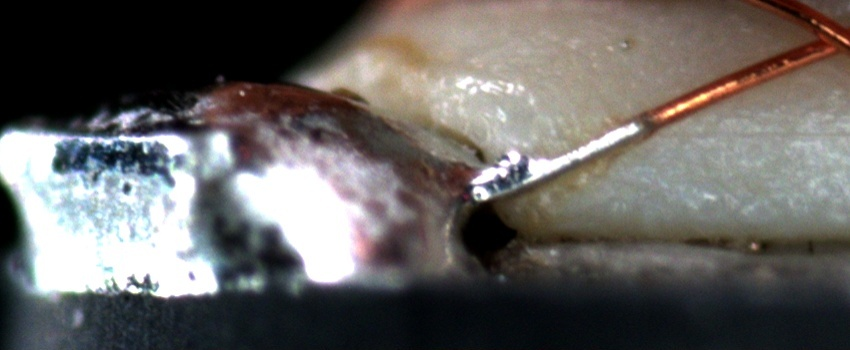CL: (791, 9, 848, 64)
DL: (657, 99, 850, 164)
TB: (469, 153, 555, 204)
TS: (472, 118, 641, 204)
TTCW: (462, 94, 705, 207)
